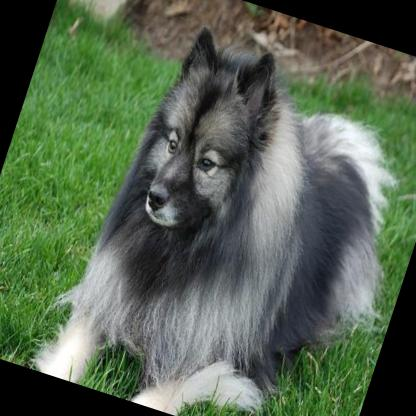keeshond: (31, 6, 416, 416)
